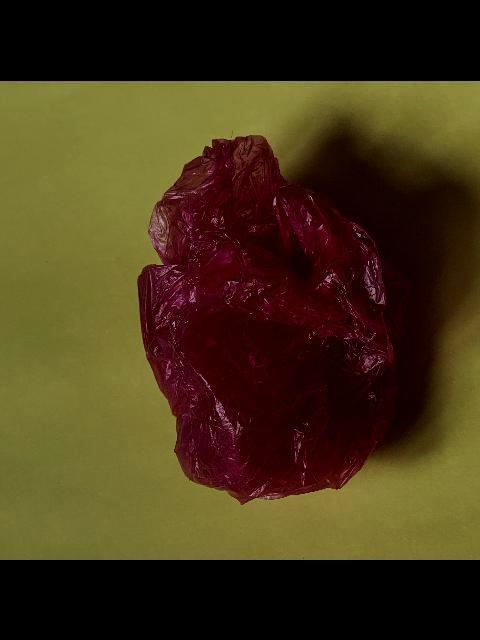paperbag: (136, 134, 412, 504)
